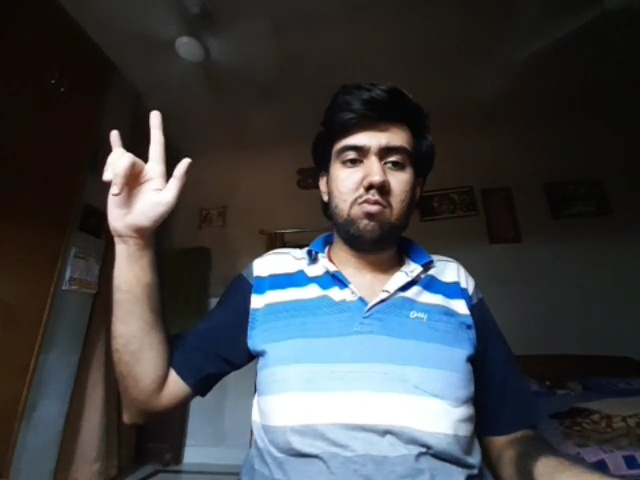ILoveYou: (101, 109, 193, 233)
